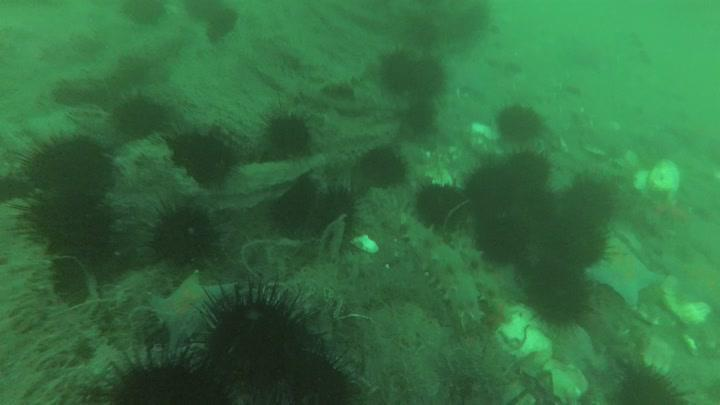urchin: (200, 272, 301, 381), (101, 337, 205, 405), (18, 131, 110, 199), (508, 254, 594, 325), (18, 192, 117, 249), (142, 196, 218, 263), (287, 344, 352, 405), (164, 126, 228, 182), (468, 209, 537, 260), (409, 181, 472, 234), (609, 363, 685, 405), (558, 176, 621, 225), (112, 89, 170, 141), (462, 157, 516, 212), (509, 181, 562, 236), (553, 216, 609, 268), (261, 107, 313, 161), (494, 99, 548, 149), (310, 181, 355, 228), (501, 147, 552, 188), (374, 40, 415, 88), (362, 141, 408, 183), (411, 55, 447, 91), (403, 95, 438, 131), (200, 7, 236, 38)
